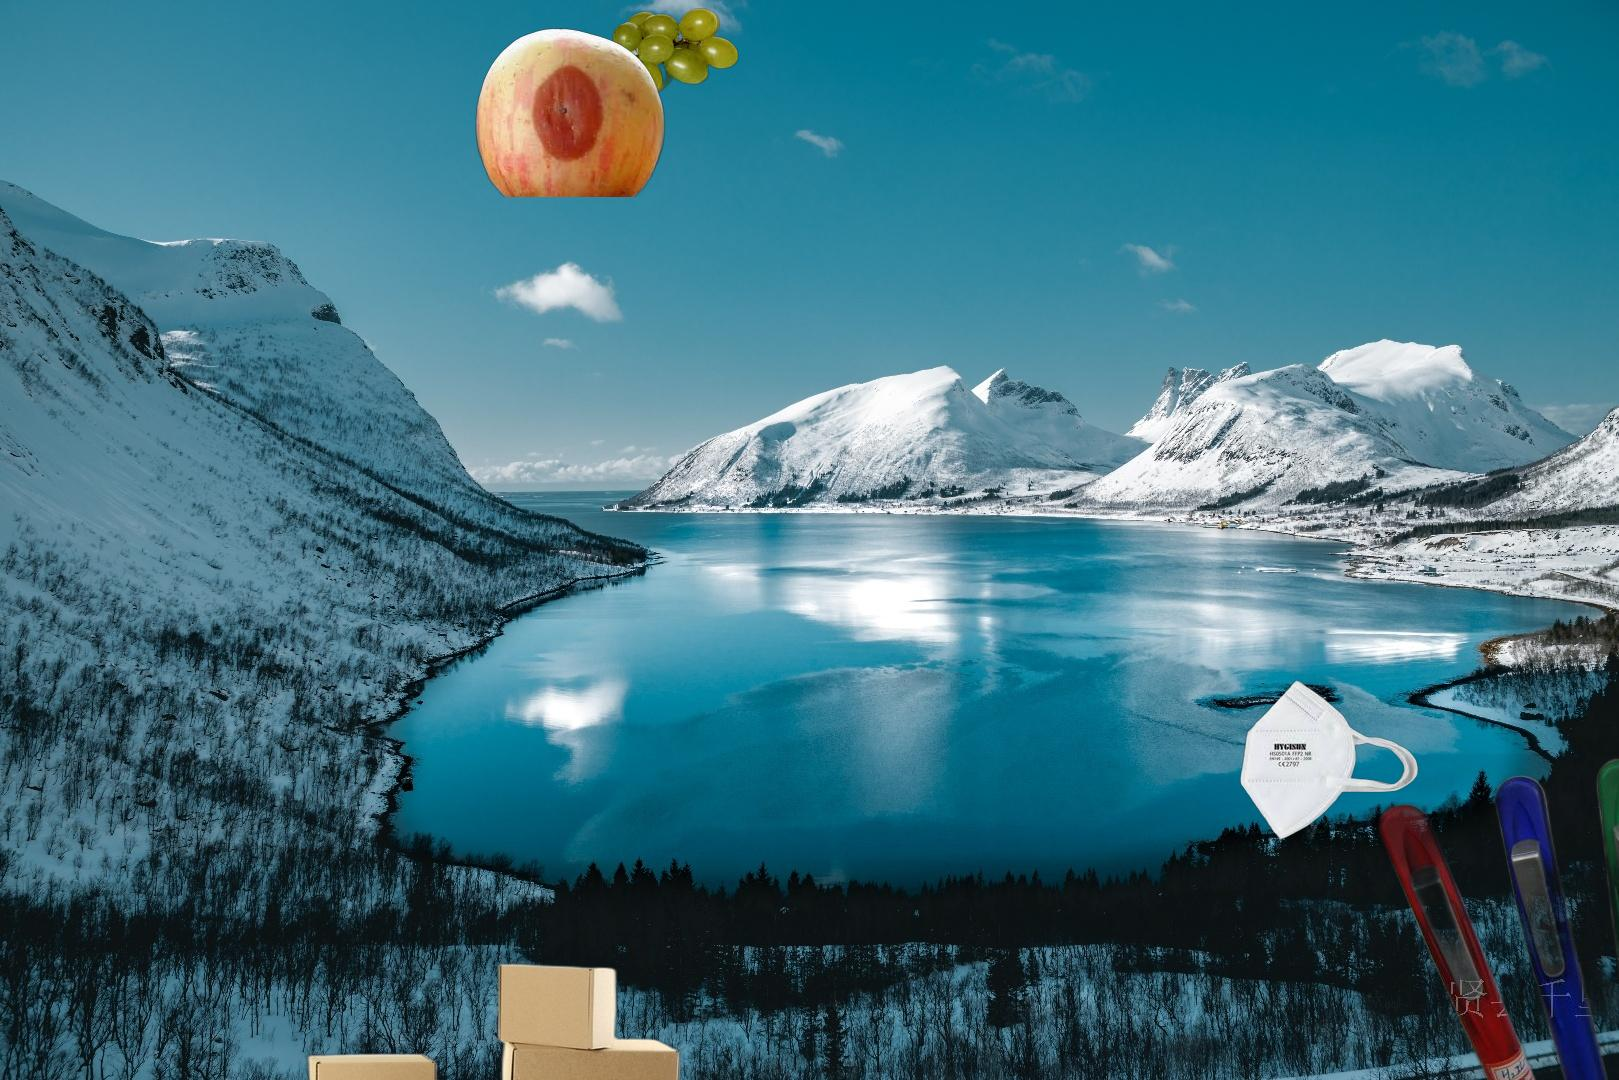biological: (474, 27, 668, 196), (583, 5, 741, 96)
penholder: (1357, 755, 1619, 1080)
trash: (1238, 677, 1421, 843)
trashbox-cardboard: (74, 959, 747, 1080)
